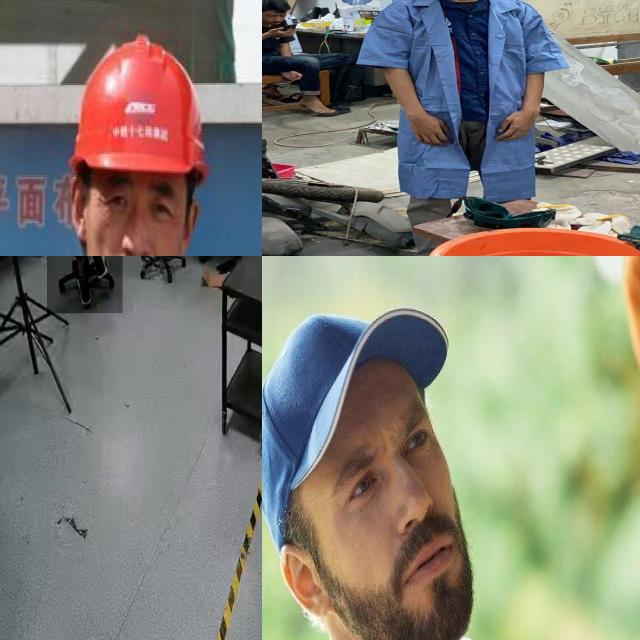No_Ear-Protection: (262, 307, 479, 640), (67, 168, 92, 237)
No_Glasses: (98, 182, 180, 237)
face_nomask: (86, 189, 187, 256), (264, 12, 288, 25)
hand_noglove: (406, 110, 454, 146), (491, 107, 539, 143), (268, 26, 299, 39)
head_helmet: (66, 32, 215, 185)
head_nohelmet: (262, 0, 293, 15)
person: (355, 0, 563, 256), (262, 0, 357, 119), (47, 256, 123, 314)
shoes: (74, 262, 96, 312), (89, 256, 108, 283)
